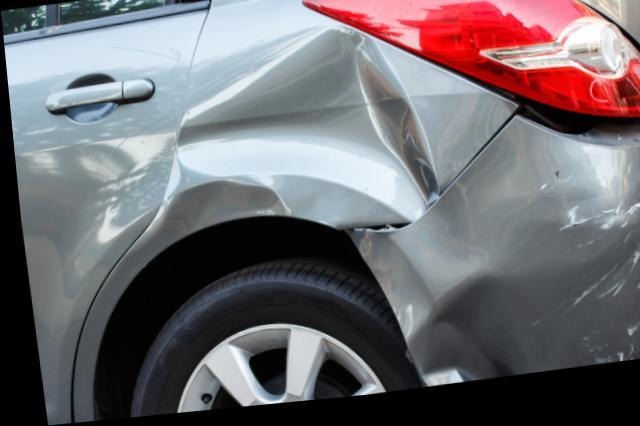dent: (161, 38, 437, 244), (396, 277, 544, 394)
scratch: (533, 181, 640, 376)
